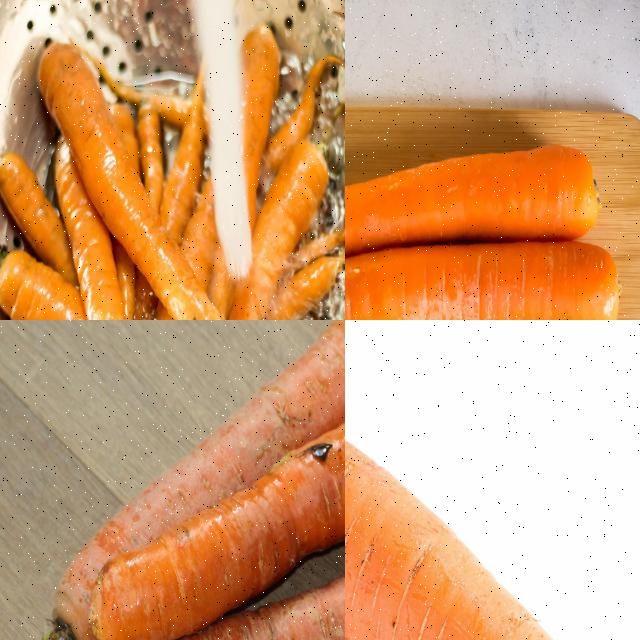carrot: (0, 0, 344, 319), (49, 320, 344, 639), (345, 343, 639, 639), (96, 364, 344, 639), (345, 140, 603, 262), (149, 516, 344, 639)
